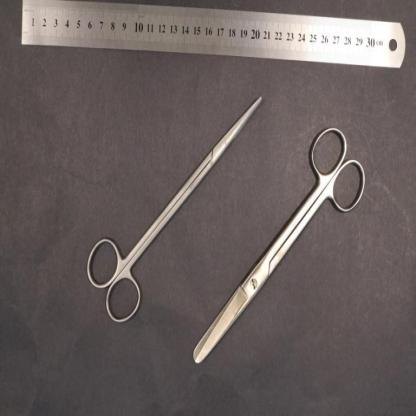7 Metzenbaum Scissors: (85, 97, 262, 325)
Dressing Scissors: (193, 126, 367, 366)
